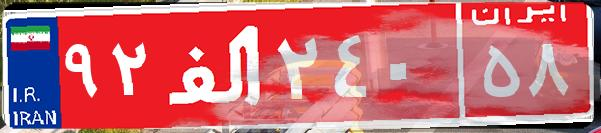0: (385, 28, 445, 110)
2: (273, 28, 330, 110), (110, 28, 158, 105)
4: (330, 28, 385, 110)
5: (475, 38, 525, 113)
8: (525, 38, 570, 115)
9: (57, 26, 110, 107)
الف: (158, 15, 273, 115)
